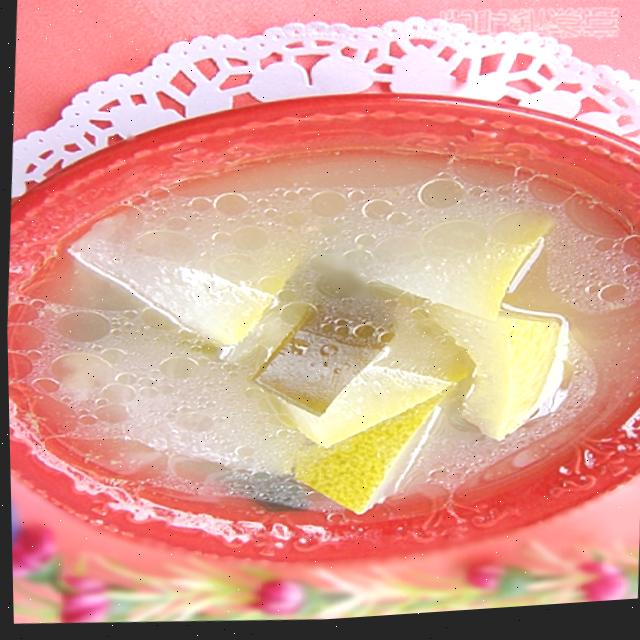汤锅炖物: (9, 116, 640, 575)
